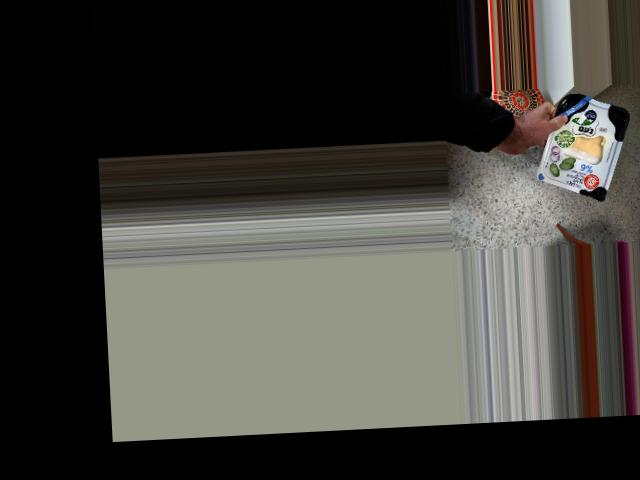cheese: (542, 103, 615, 193)
